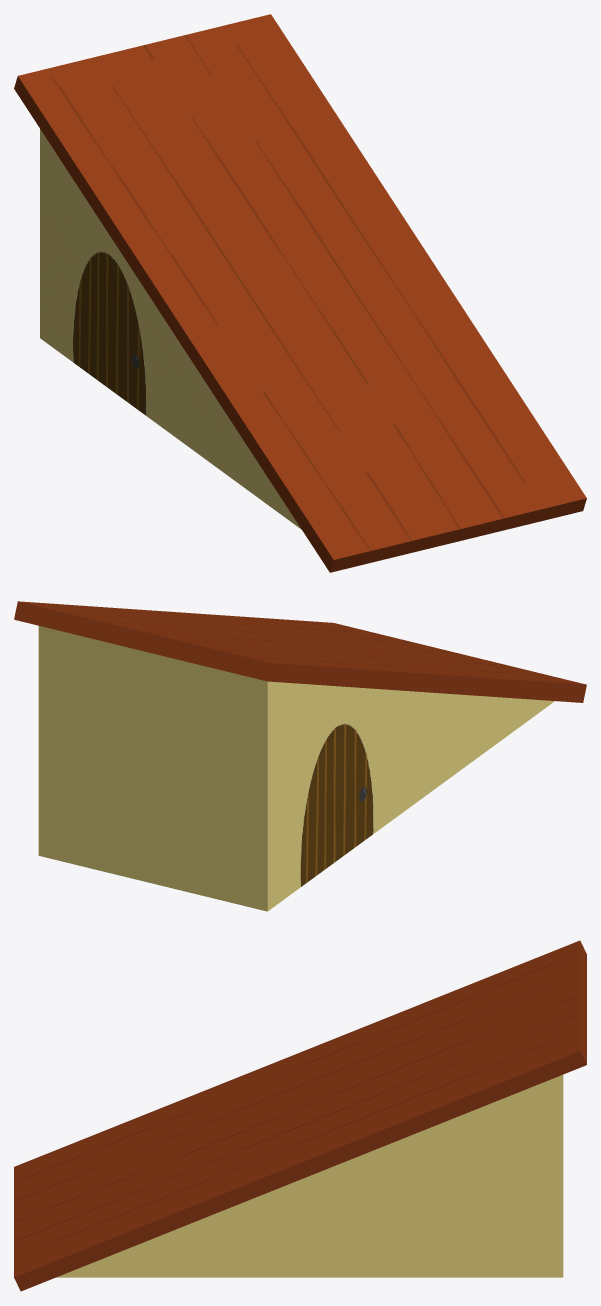
Rendered from House.fbx.
The picture shows the model from 3 angles, top to bottom: view 1: azimuth 30°, elevation 25°; view 2: azimuth 150°, elevation 25°; view 3: azimuth 270°, elevation 25°; orthographic projection. The views are drawn at different scales.
Parts seen in each view (by area): view 1: Cube; view 2: Cube; view 3: Cube.
Part boxes in pixels (bbox=[...]): Cube: bbox=[14, 14, 586, 572]; Cube: bbox=[14, 601, 586, 911]; Cube: bbox=[14, 940, 586, 1291].
Bounding box in the file's own units: 697 × 706 × 1524.
